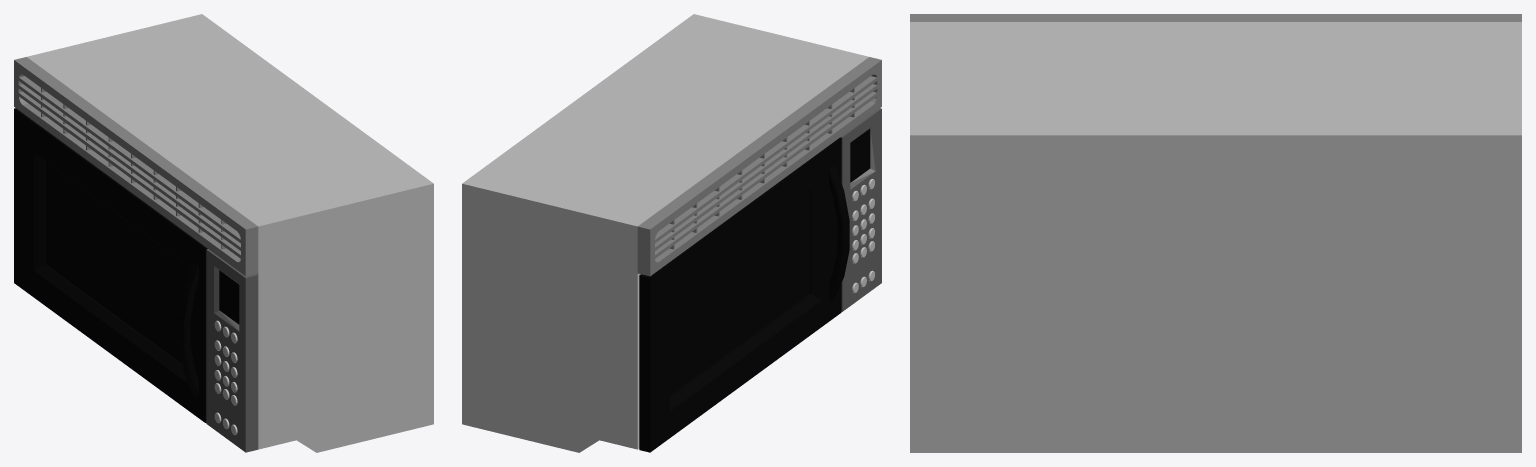
3 renders of one model, left to right at view 1: azimuth 30°, elevation 25°; view 2: azimuth 150°, elevation 25°; view 3: azimuth 270°, elevation 25°, orthographic. The views are drawn at different scales.
Parts seen in each view (by area): view 1: link_19, visuals; view 2: link_19, visuals; view 3: link_19.
Part boxes in pixels (<box>): link_19: <box>14,14,433,452</box>; visuals: <box>14,108,207,422</box>; link_19: <box>462,14,881,452</box>; visuals: <box>639,138,849,452</box>; link_19: <box>910,14,1521,452</box>.
Bounding box in the file's own units: 0.3399 × 0.3853 × 0.6725.
Materials: 2 (1 with a texture image).
